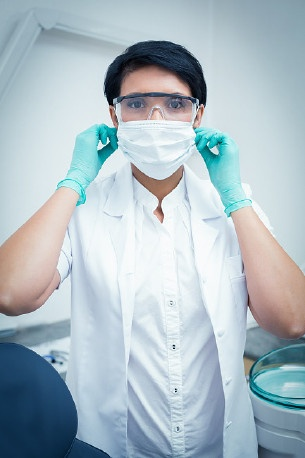Mask: (120, 88, 205, 174)
